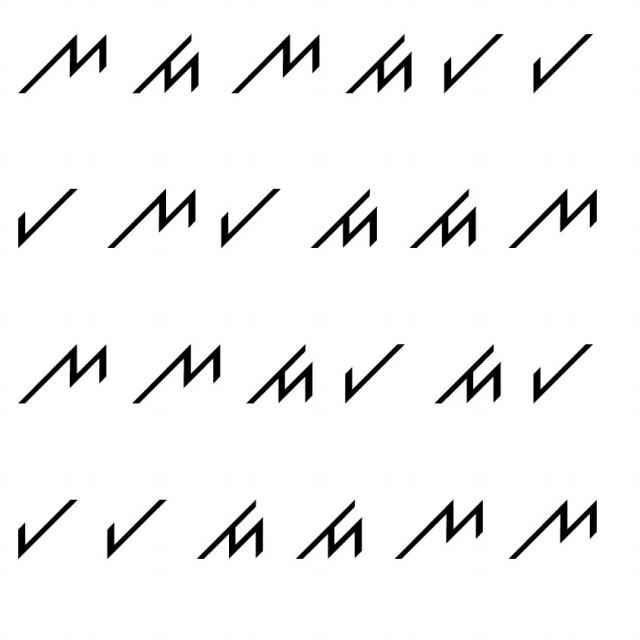da: (338, 27, 419, 108), (405, 180, 484, 260), (236, 335, 318, 412), (197, 492, 274, 571), (126, 28, 202, 102), (431, 341, 506, 414), (296, 496, 368, 571), (308, 184, 385, 254)
na: (505, 178, 605, 260), (505, 492, 605, 572), (100, 180, 202, 257), (223, 24, 324, 101), (393, 489, 488, 570), (130, 334, 227, 413), (12, 336, 110, 412), (16, 26, 110, 105)
pa: (9, 483, 83, 566), (98, 488, 174, 564), (334, 335, 408, 413), (525, 330, 596, 410), (524, 22, 598, 96), (434, 23, 504, 97), (214, 181, 289, 250), (10, 178, 80, 250)
